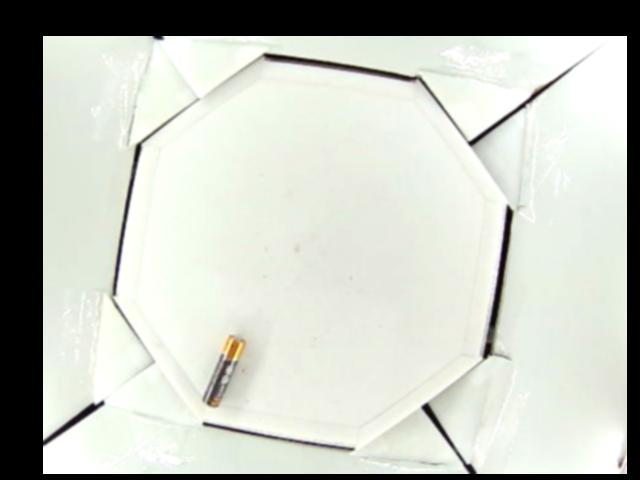Battery: (202, 336, 245, 410)
